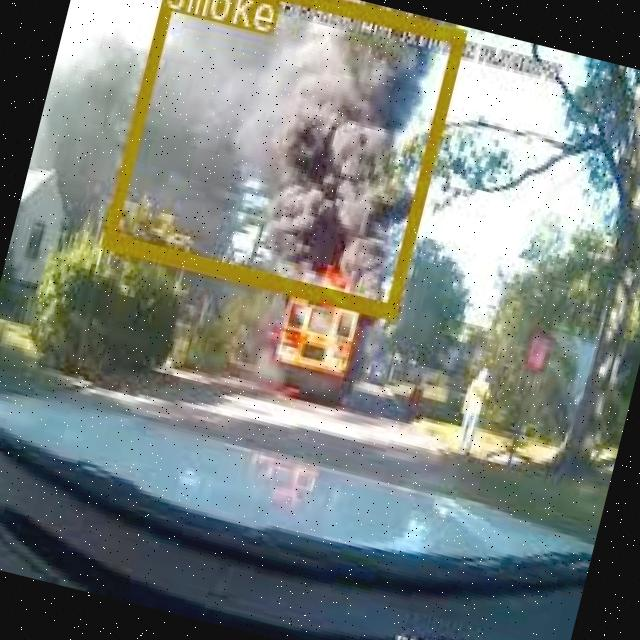smoke: (99, 0, 463, 314)
